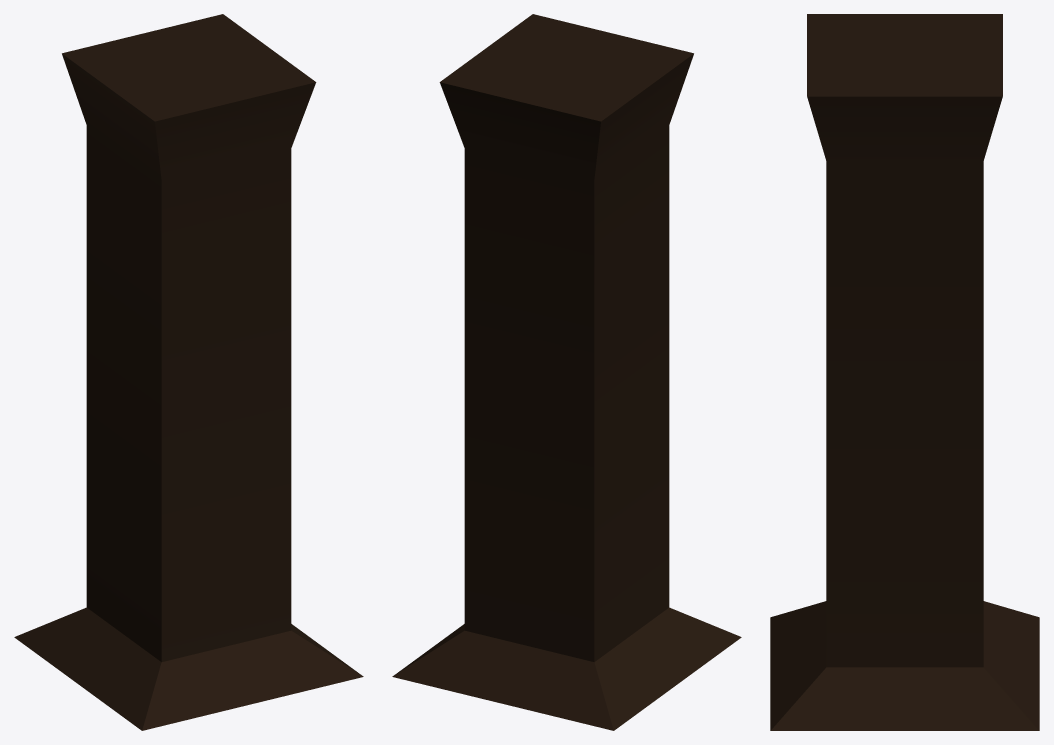
Rendered from column.fbx.
The picture shows the model from 3 angles, left to right: view 1: azimuth 30°, elevation 25°; view 2: azimuth 150°, elevation 25°; view 3: azimuth 270°, elevation 25°; orthographic projection. The views are drawn at different scales.
Visible parts, largest first — view 1: Cube; view 2: Cube; view 3: Cube.
Boxes of the visible parts, box(x1,y1,x2,y2) form: Cube: box(14, 14, 363, 730); Cube: box(392, 14, 741, 730); Cube: box(770, 14, 1039, 730).
Size of the model in its own units: 342 by 868 by 342.
